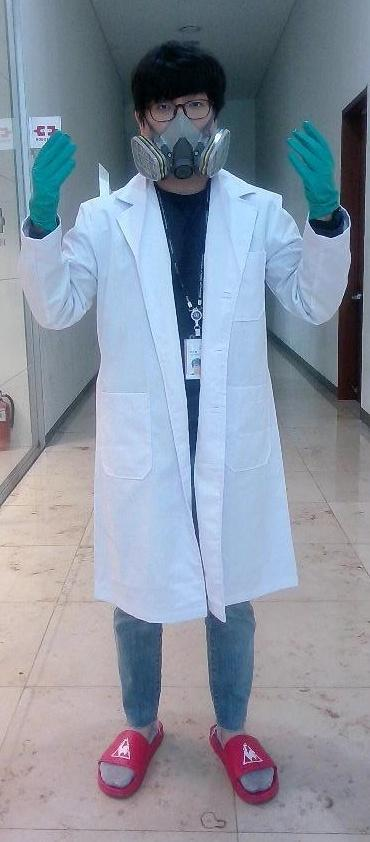lab_coat: (96, 197, 287, 620)
